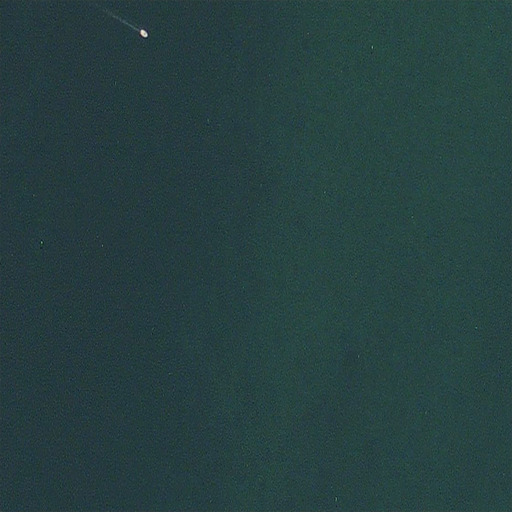ship: (139, 28, 147, 37)
